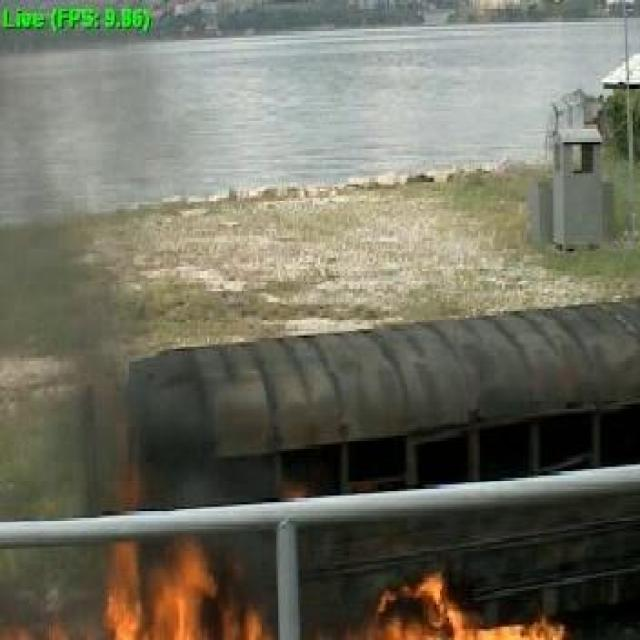fire: (0, 428, 618, 634)
